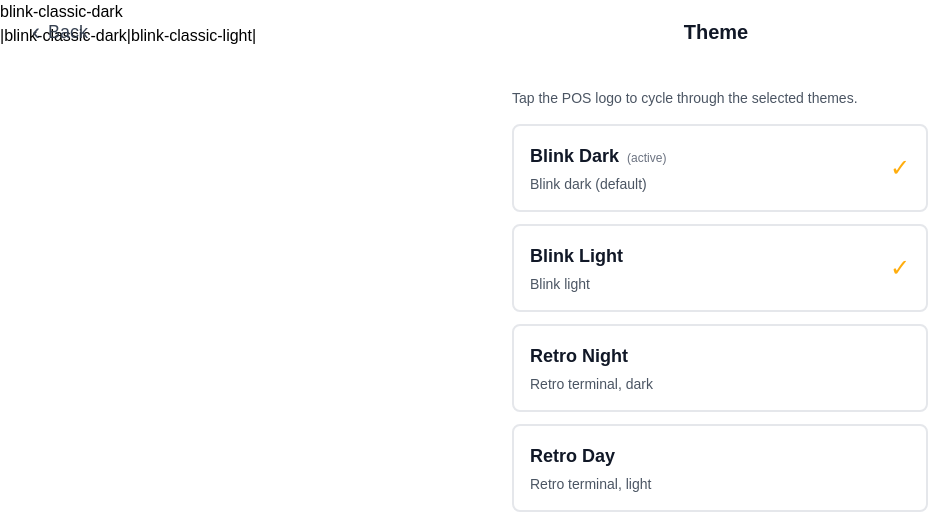
ThemeCycleOverlay › selecting a disabled theme enables and applies it immediately
Check: the element with test id "enabled" does not show "|dark|"
Click the button with test id "theme-option-dark" at (579, 356), box x1=512 y1=324 x2=928 y2=412
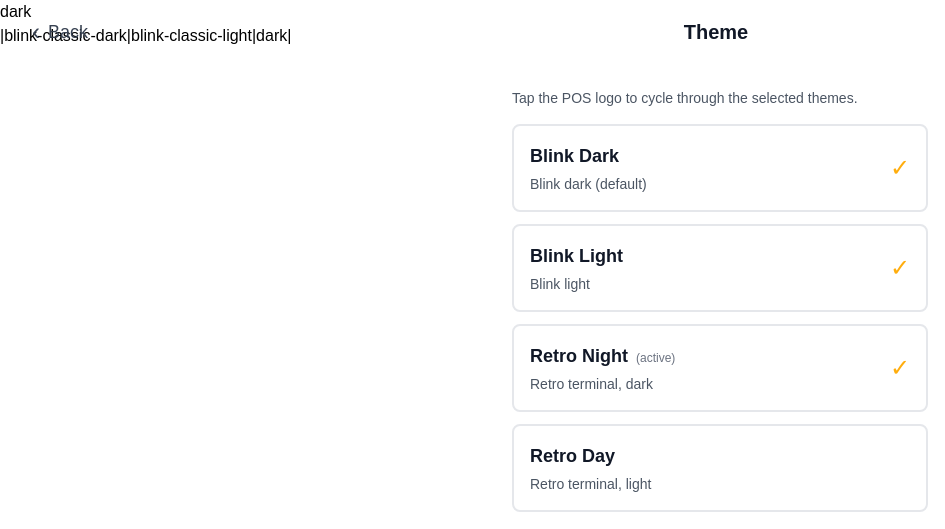
Check: the text with test id "enabled" shows "|dark|", box x1=0 y1=27 x2=291 y2=44
Check: the text with test id "active" reads "dark", box x1=0 y1=3 x2=31 y2=20
